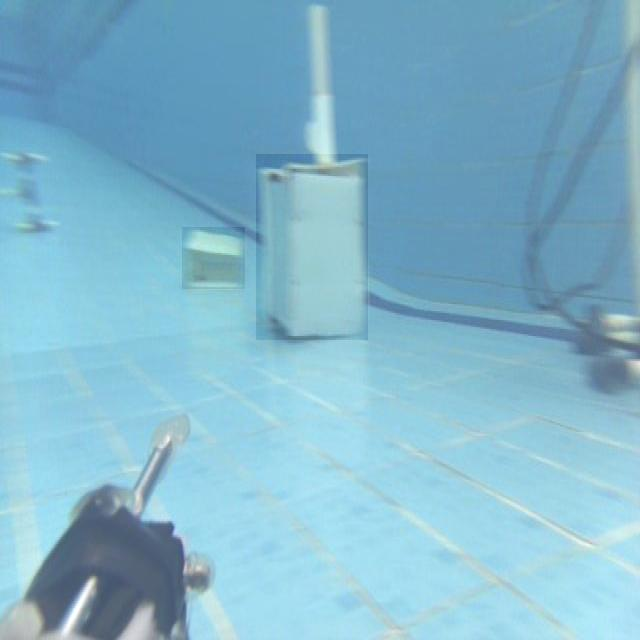Cube: (256, 154, 368, 340)
Cuboid: (182, 228, 245, 290)
